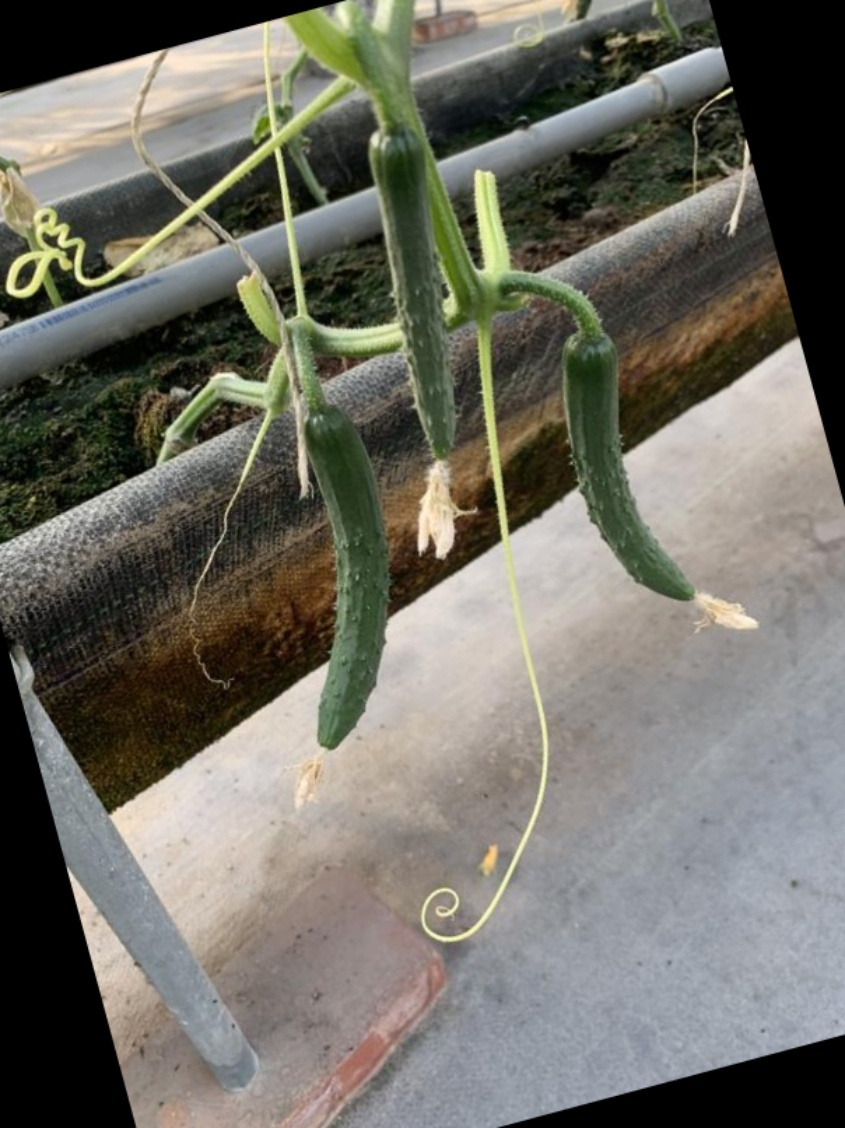growth: (359, 125, 474, 465)
